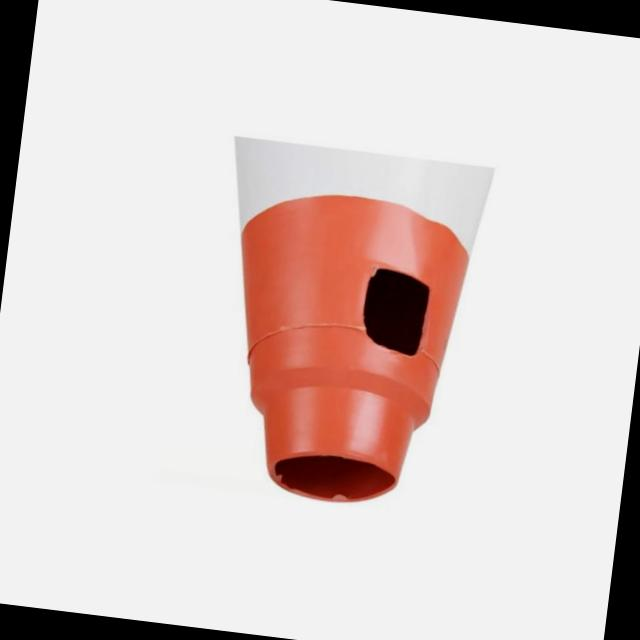cone: (196, 143, 482, 518)
